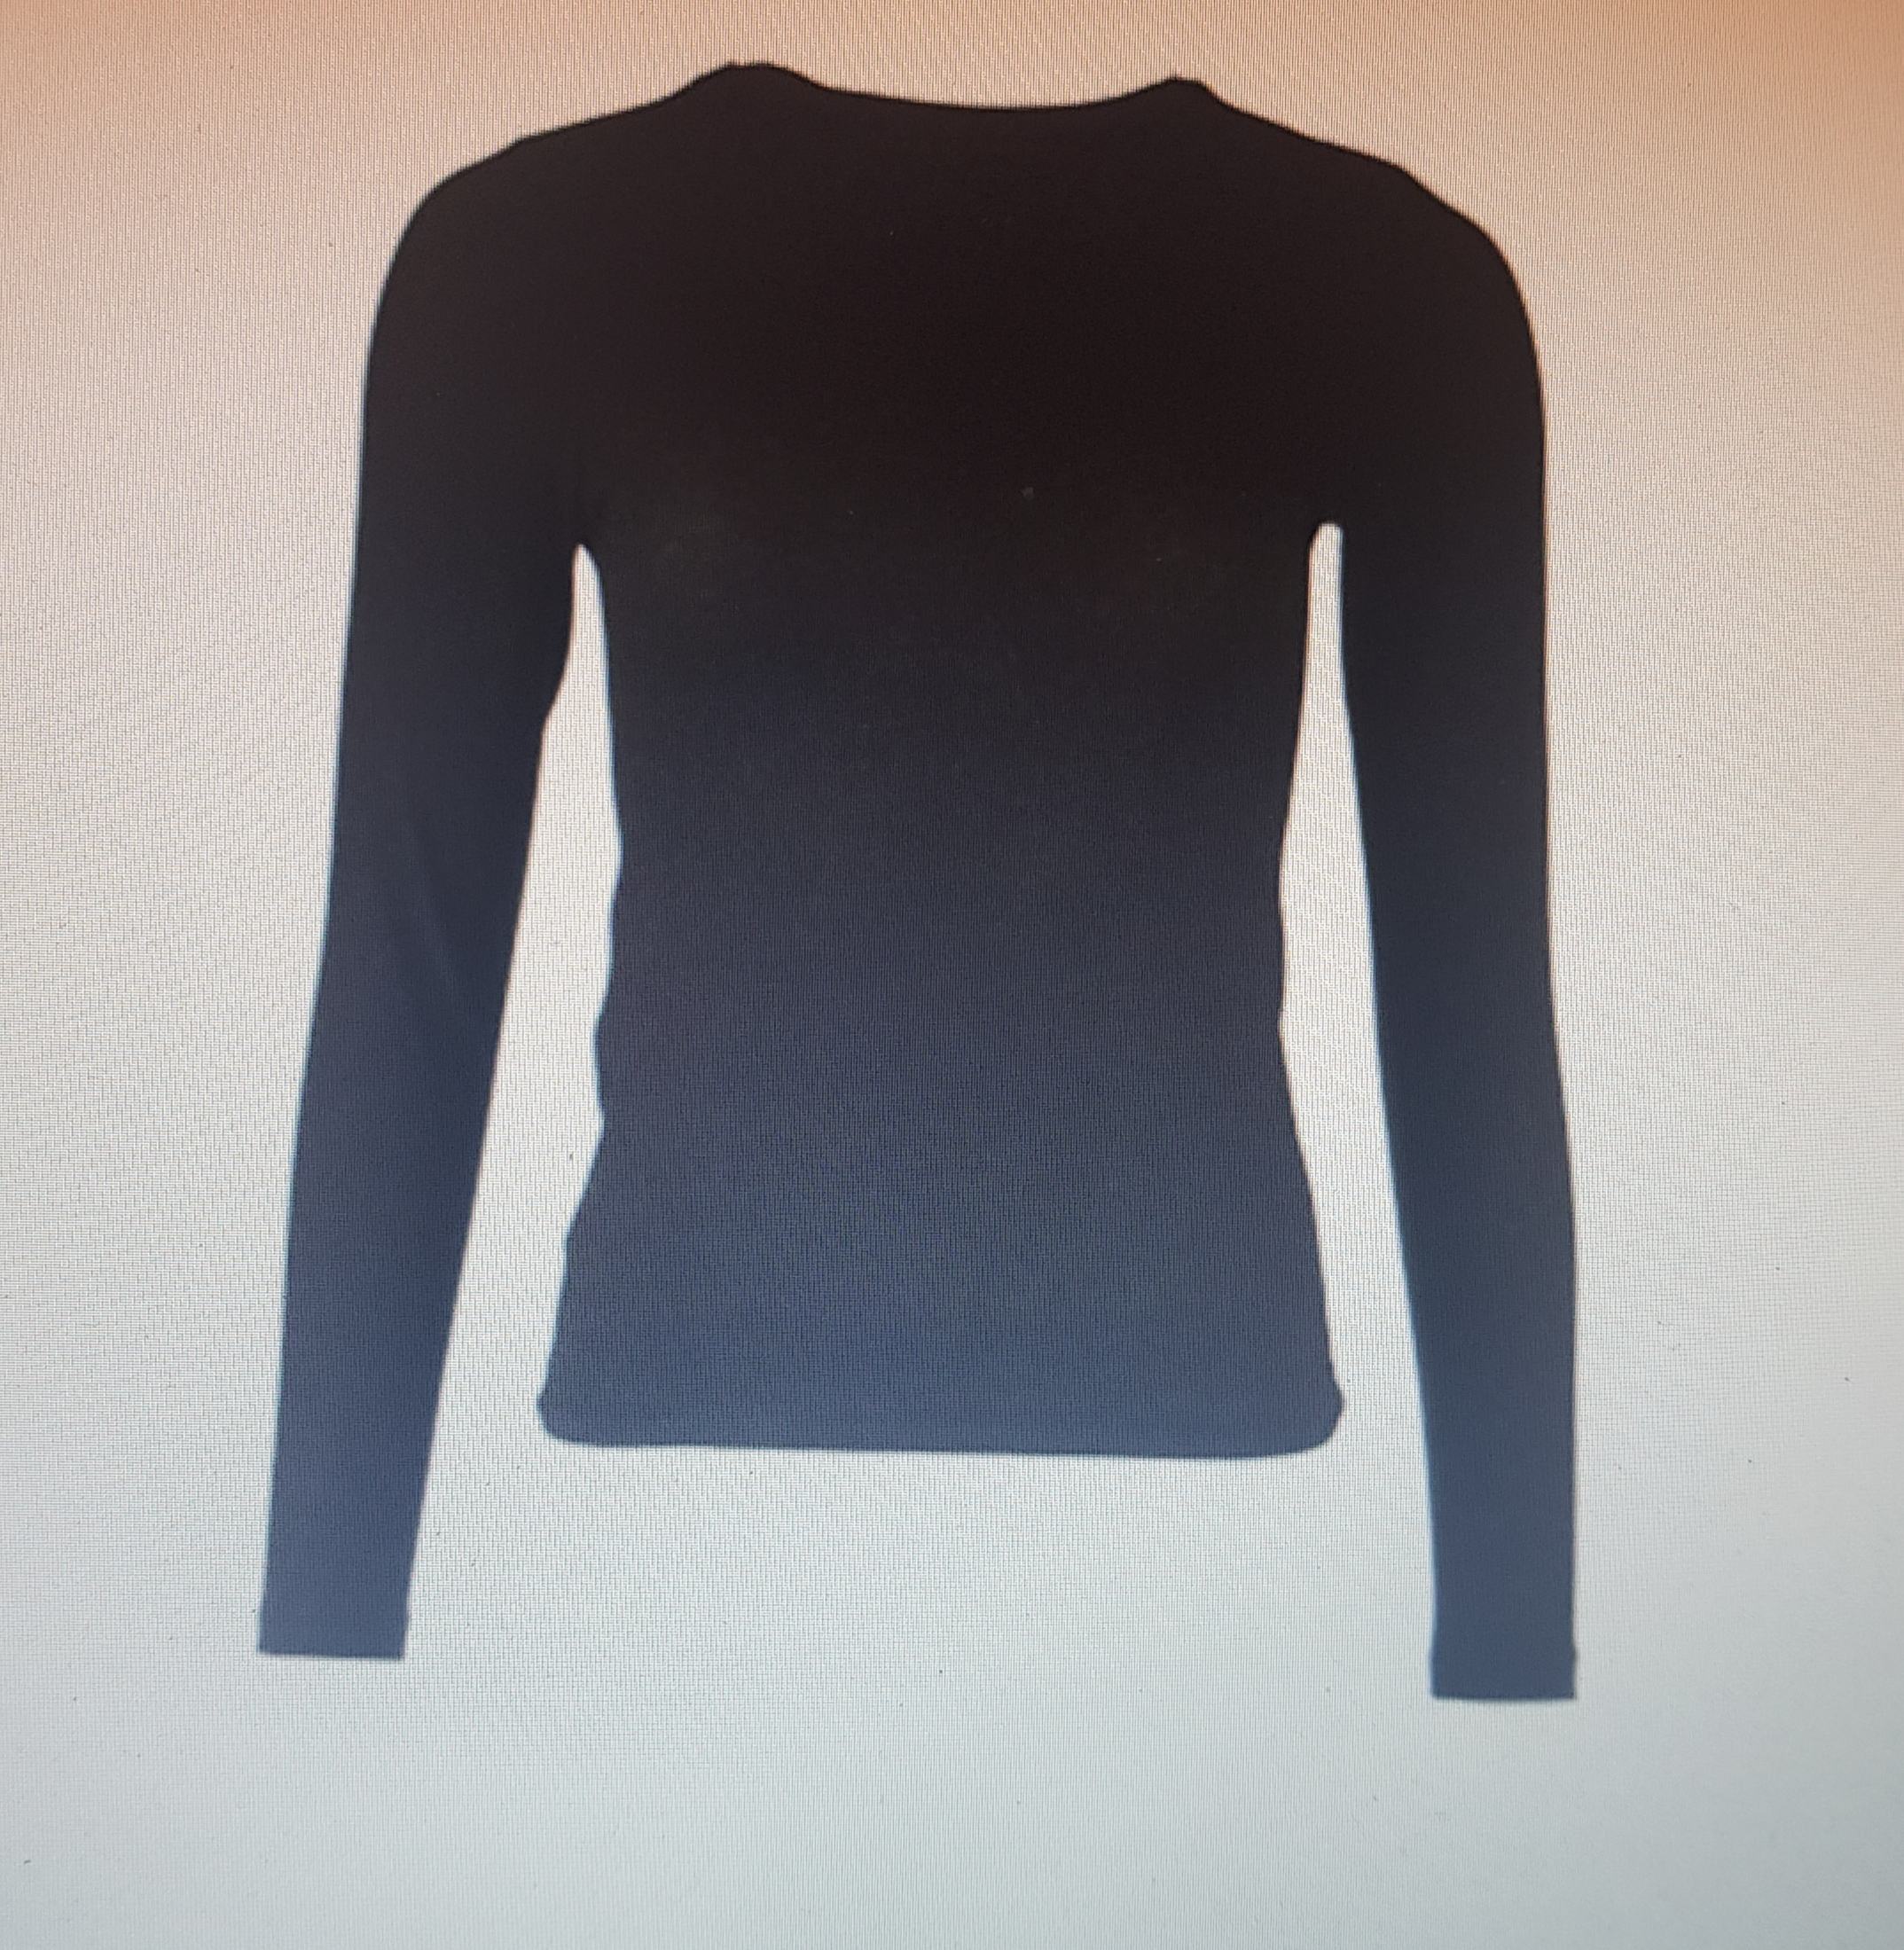Black: (246, 58, 1599, 1709)
